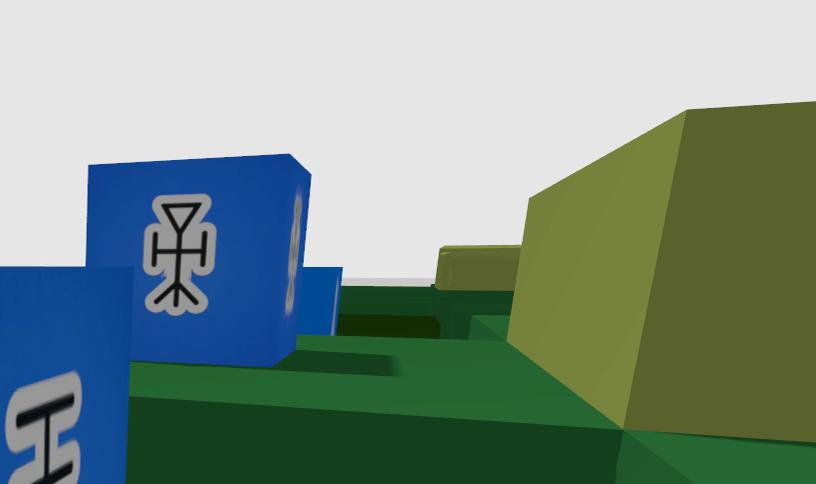KFS_REAL: (85, 155, 310, 365), (0, 268, 130, 484), (143, 194, 218, 315), (6, 372, 83, 484)
